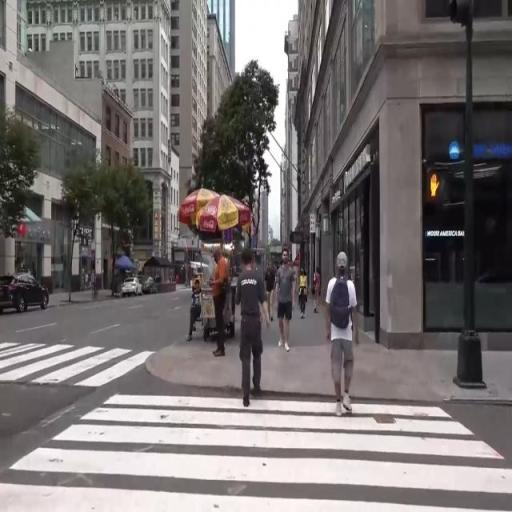person: (323, 253, 360, 411), (238, 246, 274, 407), (210, 240, 237, 363), (275, 249, 300, 348), (186, 279, 208, 345), (266, 256, 278, 325), (300, 264, 310, 324), (314, 268, 323, 313)
